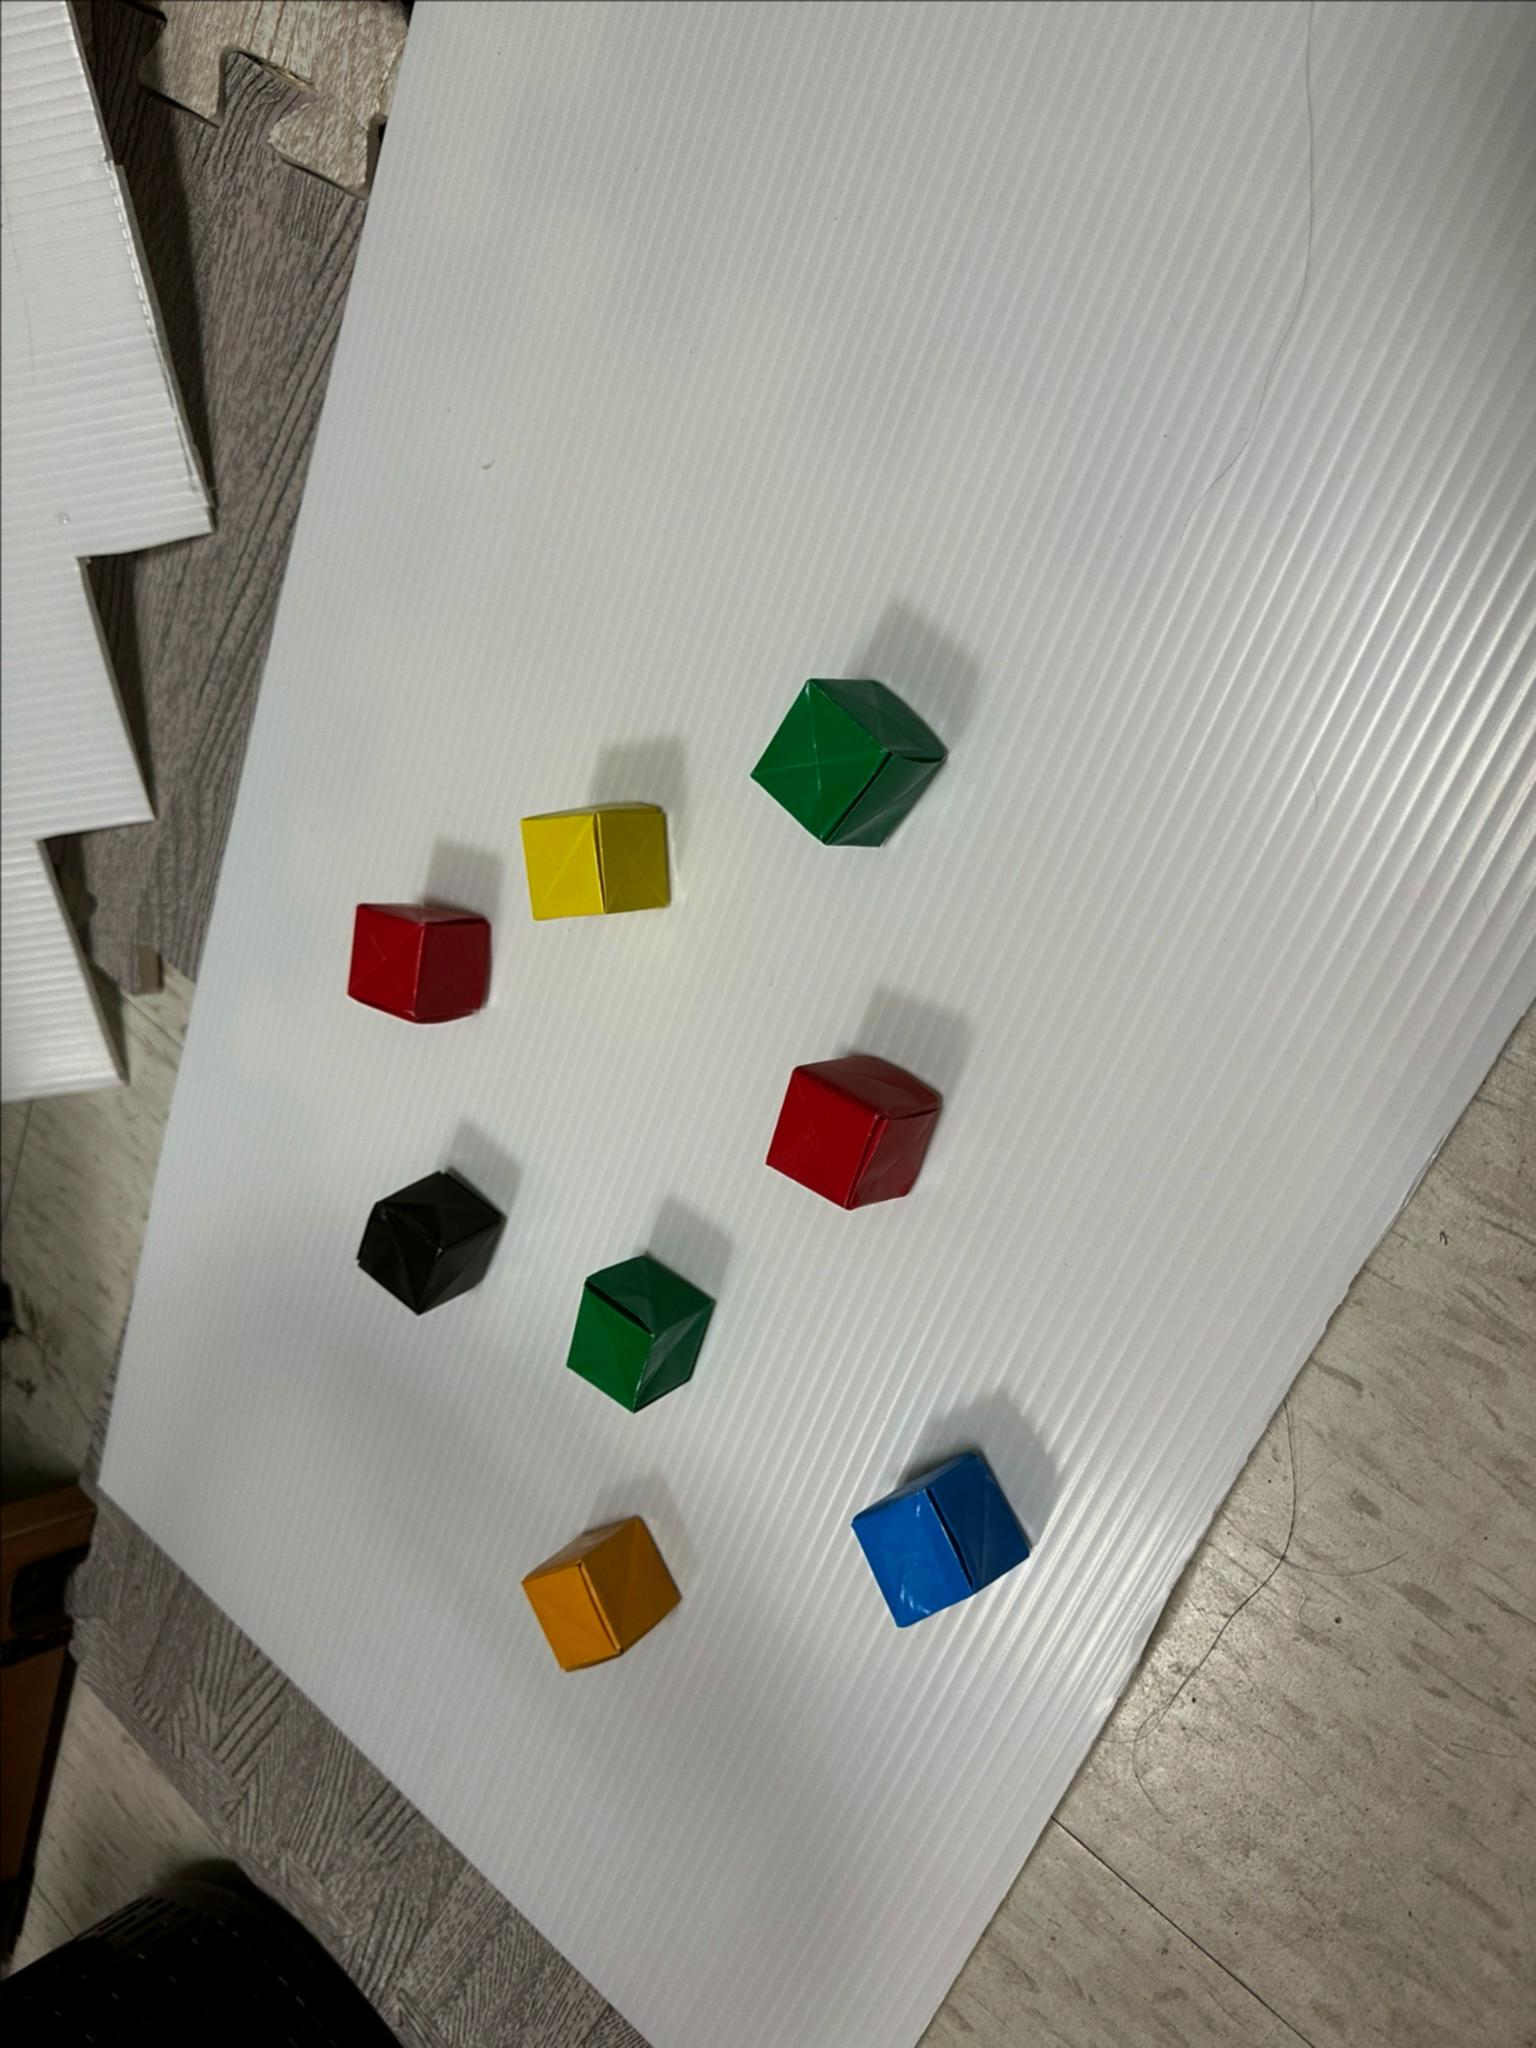cube: (752, 679, 945, 847), (850, 1451, 1029, 1627), (766, 1056, 939, 1209), (521, 1517, 681, 1671), (566, 1255, 712, 1411), (357, 1172, 503, 1313), (521, 805, 670, 919), (347, 903, 489, 1022)
